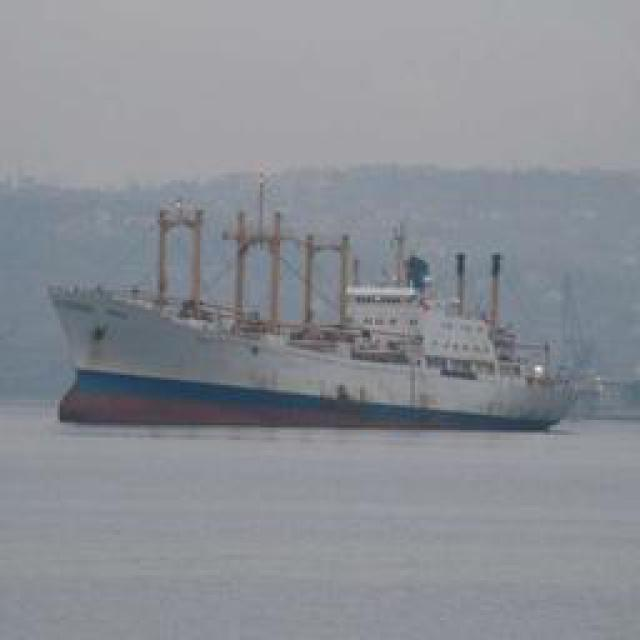Ship: (43, 214, 598, 434)
